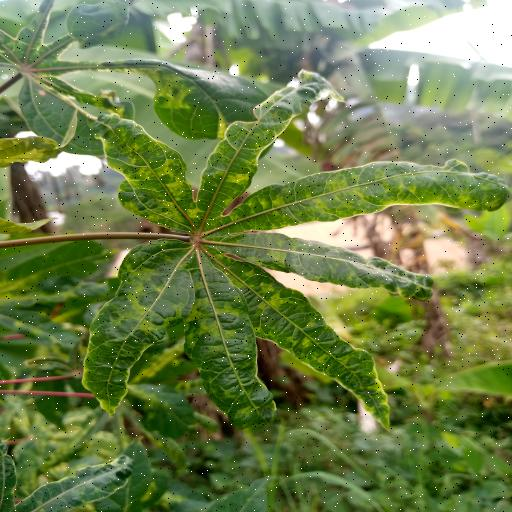Cassava_Mosaic: (85, 64, 512, 434), (0, 0, 278, 160)
